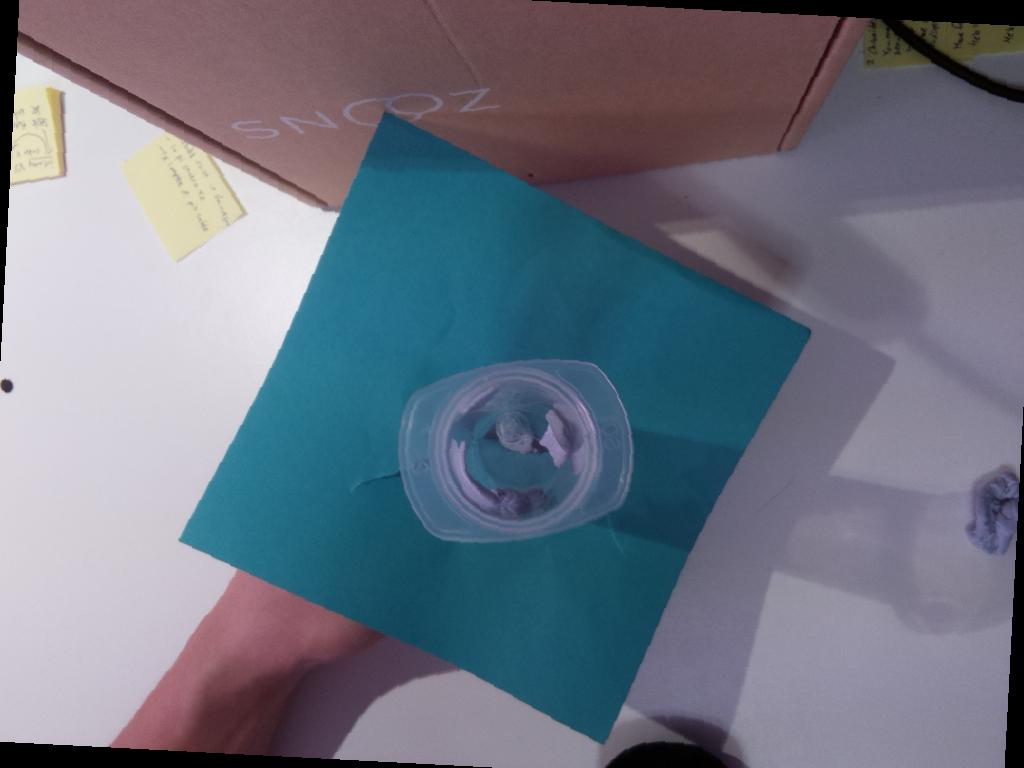dirty: (396, 359, 634, 544)
